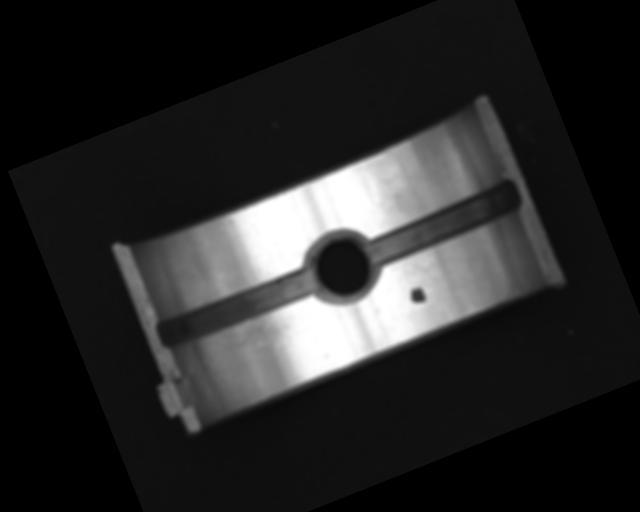blot: (407, 284, 427, 306)
gap: (152, 260, 324, 354), (364, 179, 526, 269)
hole: (299, 222, 388, 312)
nick: (243, 222, 274, 277)
scratch: (200, 305, 301, 374)
